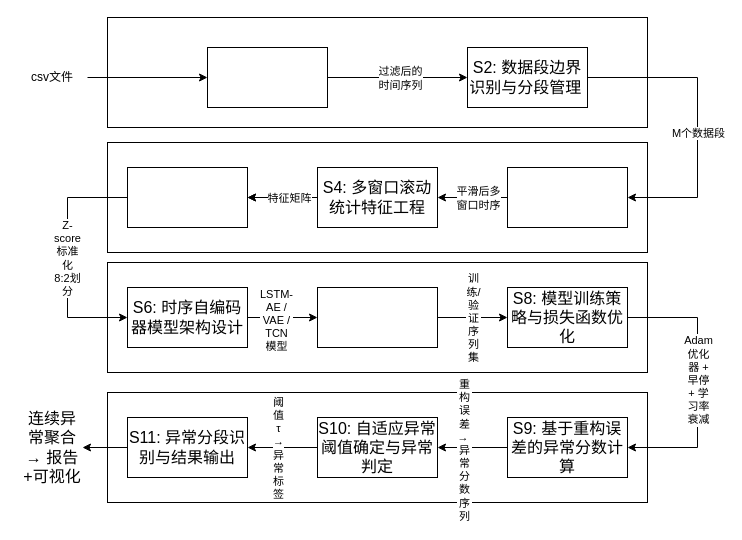
This 742x540 diagram has some shape labels left out. The shapes that lost their labels are listed below. From the top down, each one's centre as x and y in pixels, then its label:
point (267, 77): S1: 原始遥测数据获取与质量预处理
point (187, 197): S5: 特征标准化与训练集构建
point (567, 197): S3: 多尺度平滑去噪与趋势信号提取
point (377, 317): S7: 段边界感知的序列数据集构建
